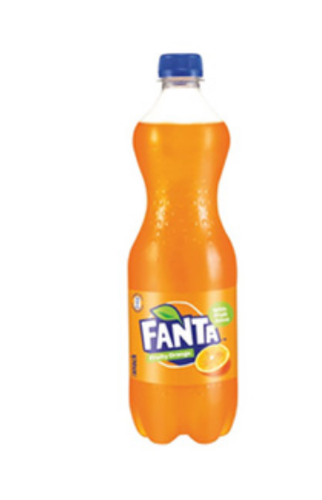Fanta: (109, 62, 252, 461)
